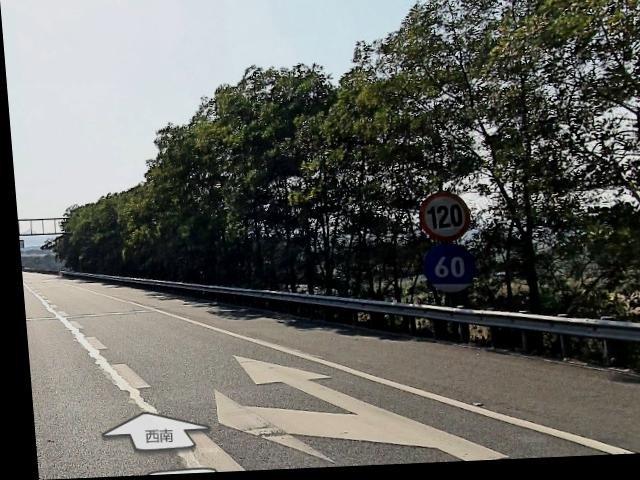limit120: (413, 194, 467, 246)
